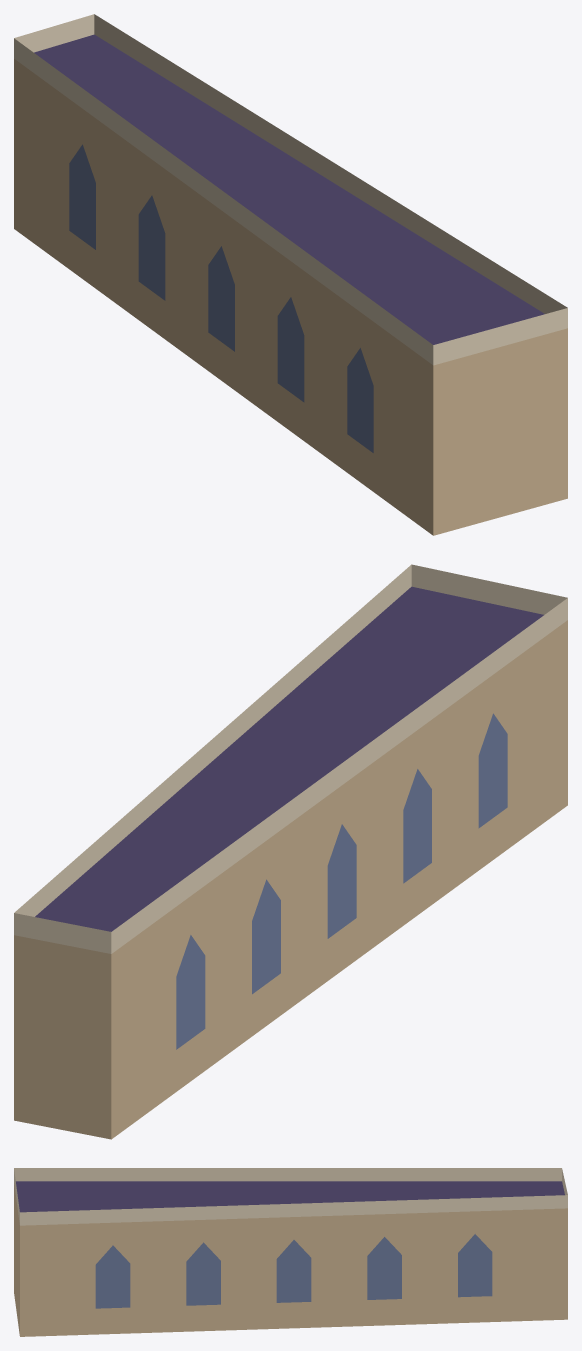
The model's file is b-136-day.glb.
The picture shows the model from 3 angles, top to bottom: view 1: azimuth 30°, elevation 25°; view 2: azimuth 150°, elevation 25°; view 3: azimuth 270°, elevation 25°; orthographic projection. The views are drawn at different scales.
Parts seen in each view (by area): view 1: campus/b-136-day-0; view 2: campus/b-136-day-0; view 3: campus/b-136-day-0.
Part boxes in pixels (<box>): campus/b-136-day-0: <box>14,14,567,535</box>; campus/b-136-day-0: <box>14,564,567,1139</box>; campus/b-136-day-0: <box>14,1168,567,1336</box>.
Size of the model in its own units: 3.99 by 5.15 by 20.75.
